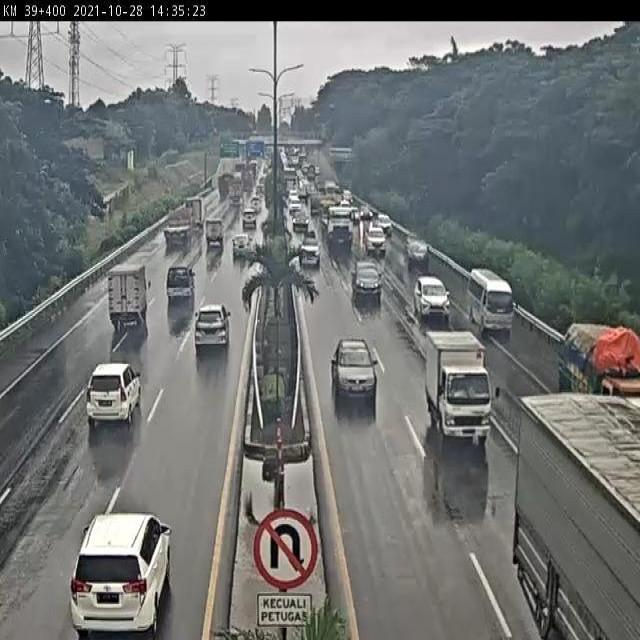big truck: (511, 380, 640, 640), (76, 356, 147, 439), (321, 211, 356, 261)
car: (63, 501, 180, 640), (105, 259, 154, 329), (333, 339, 378, 412), (161, 260, 200, 315), (412, 278, 453, 326), (190, 303, 230, 352), (349, 259, 383, 300), (293, 227, 326, 269), (362, 215, 388, 256), (200, 213, 226, 250), (401, 233, 432, 264), (229, 233, 254, 267), (242, 210, 258, 233)
small bus: (466, 264, 518, 332)
small truck: (536, 309, 640, 396), (416, 328, 491, 443), (162, 201, 195, 251)
